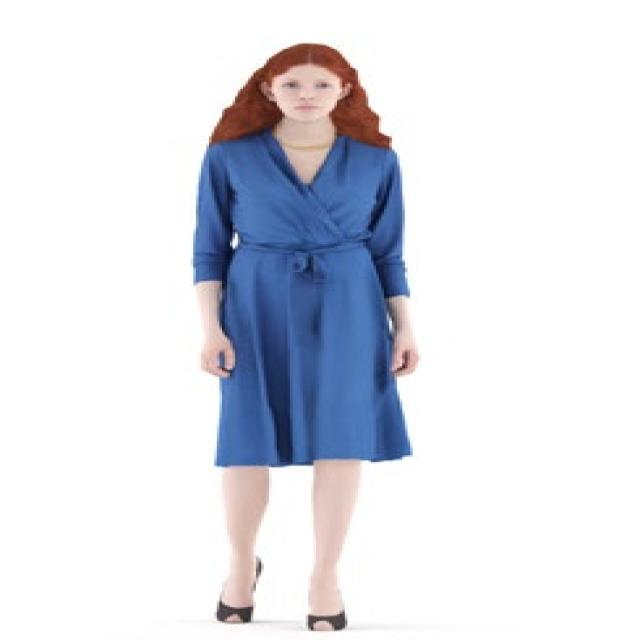standing: (182, 36, 428, 634)
